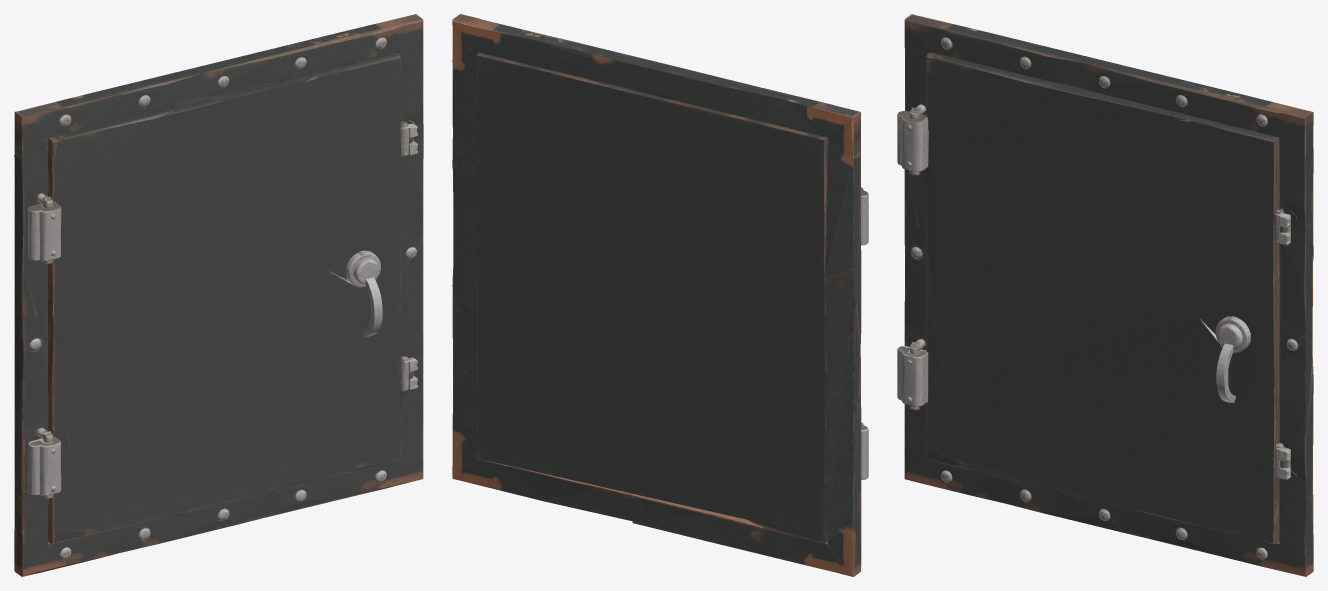
File: sportello_cassaforte_N.glb
The picture shows the model from 3 angles, left to right: view 1: azimuth 30°, elevation 25°; view 2: azimuth 150°, elevation 25°; view 3: azimuth 330°, elevation 25°; orthographic projection.
Size of the model in its own units: 1.74 by 1.9 by 0.2312.
1 material, 1 textured.
